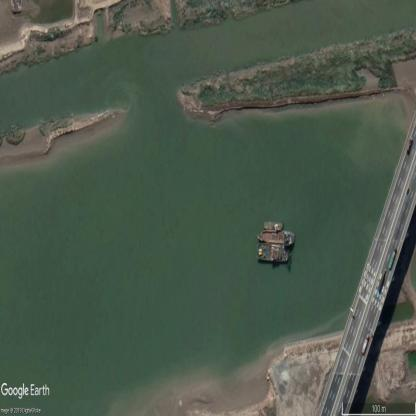ship: (257, 244, 290, 262), (260, 232, 296, 244), (262, 218, 284, 232)
